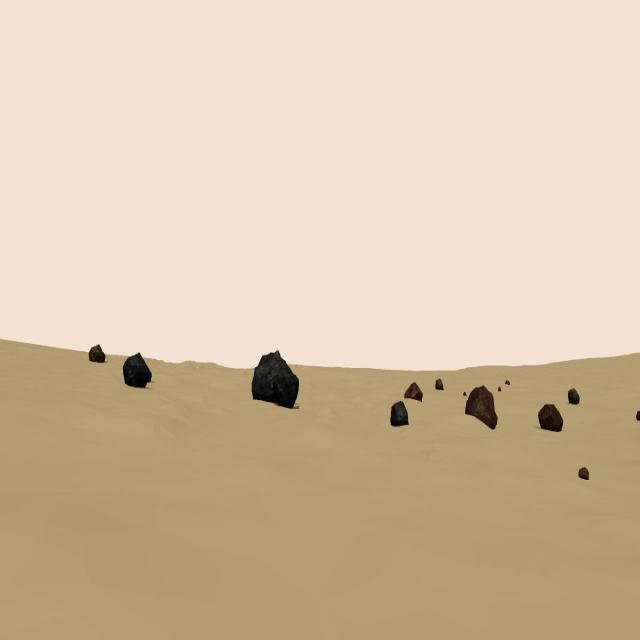rock: (252, 349, 299, 408), (465, 384, 498, 431), (124, 352, 147, 389), (538, 402, 564, 433), (390, 400, 409, 427), (405, 381, 423, 403), (88, 344, 106, 364), (568, 387, 580, 404), (144, 361, 153, 383), (578, 464, 589, 481), (435, 378, 443, 390), (636, 410, 640, 421), (504, 379, 510, 385), (498, 385, 501, 393), (463, 389, 466, 396)
